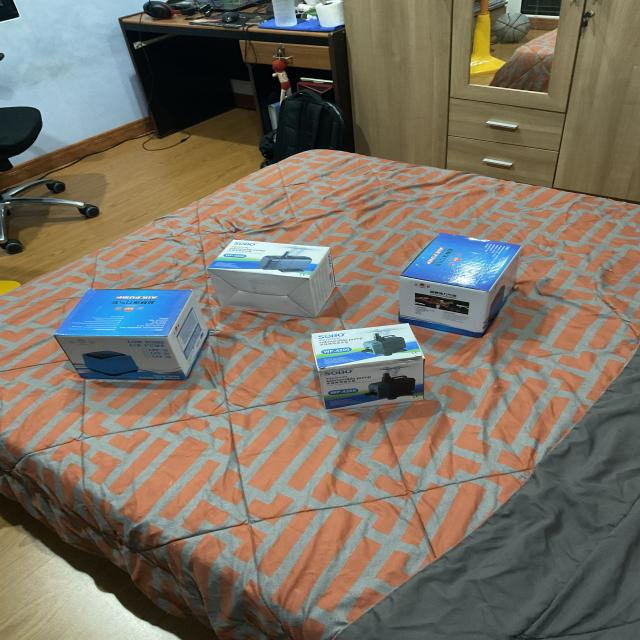SOBO_WP_4200: (297, 303, 437, 415), (201, 222, 339, 312)
YAMANO_LPP_20: (49, 262, 217, 388), (386, 224, 528, 333)
